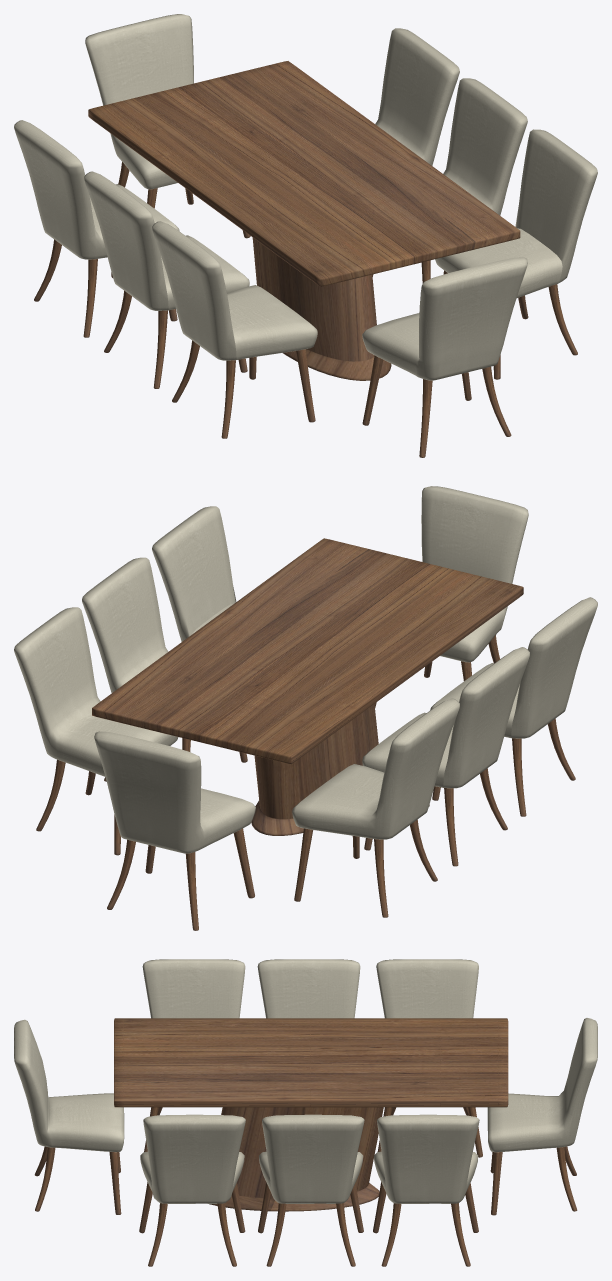
File: dining table.fbx
The picture shows the model from 3 angles, top to bottom: view 1: azimuth 30°, elevation 25°; view 2: azimuth 150°, elevation 25°; view 3: azimuth 270°, elevation 25°; orthographic projection. The views are drawn at different scales.
Visible parts, largest first — view 1: mesajantar, cadeirajantar, cadeirajantar.006, cadeirajantar.001, cadeirajantar.007, cadeirajantar.005, cadeirajantar.004, cadeirajantar.002, cadeirajantar.003; view 2: mesajantar, cadeirajantar.007, cadeirajantar.004, cadeirajantar.003, cadeirajantar, cadeirajantar.005, cadeirajantar.006, cadeirajantar.002, cadeirajantar.001; view 3: mesajantar, cadeirajantar.001, cadeirajantar.002, cadeirajantar.003, cadeirajantar, cadeirajantar.007, cadeirajantar.004, cadeirajantar.006, cadeirajantar.005.
Boxes of the visible parts, x1,y1,x2,y2 form: mesajantar: (88, 61, 520, 380); cadeirajantar: (362, 257, 527, 457); cadeirajantar.006: (152, 221, 317, 438); cadeirajantar.001: (435, 129, 597, 379); cadeirajantar.007: (85, 14, 250, 238); cadeirajantar.005: (84, 171, 249, 388); cadeirajantar.004: (14, 120, 179, 337); cadeirajantar.002: (372, 78, 527, 283); cadeirajantar.003: (375, 28, 459, 165); mesajantar: (92, 538, 523, 835); cadeirajantar.007: (94, 731, 255, 930); cadeirajantar.004: (292, 698, 459, 917); cadeirajantar.003: (14, 607, 178, 855); cadeirajantar: (374, 486, 528, 707); cadeirajantar.005: (362, 647, 529, 866); cadeirajantar.006: (430, 597, 597, 816); cadeirajantar.002: (82, 557, 247, 781); cadeirajantar.001: (152, 506, 236, 641); mesajantar: (114, 1018, 508, 1211); cadeirajantar.001: (139, 1114, 245, 1266); cadeirajantar.002: (258, 1114, 364, 1266); cadeirajantar.003: (373, 1114, 479, 1266); cadeirajantar: (14, 1019, 124, 1214); cadeirajantar.007: (487, 1018, 597, 1215); cadeirajantar.004: (376, 959, 482, 1157); cadeirajantar.006: (142, 959, 245, 1151); cadeirajantar.005: (257, 959, 360, 1018).
Bounding box in the file's own units: 276 × 81.87 × 183.
Materials: 3 (3 with a texture image).
